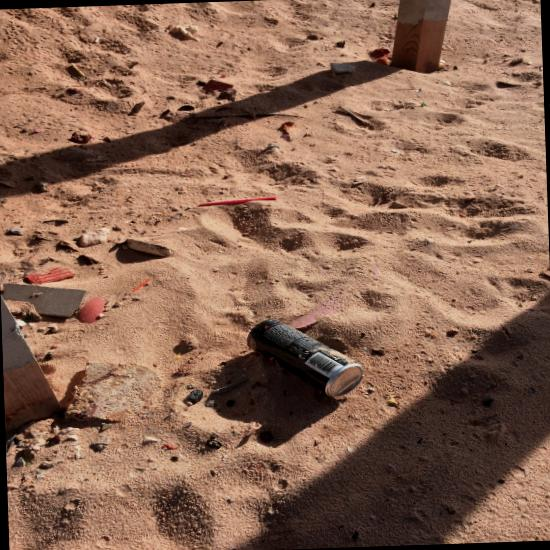Drink can: (247, 319, 364, 397)
Metal bottle cap: (281, 135, 292, 142)
Plastic straw: (199, 197, 276, 206)
Unlabeled litter: (167, 25, 200, 42)
